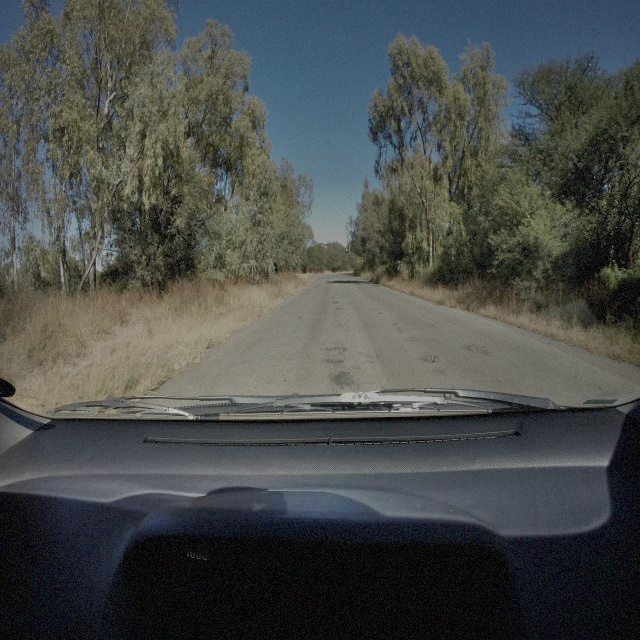pothole: (325, 346, 348, 356), (418, 354, 437, 364)
